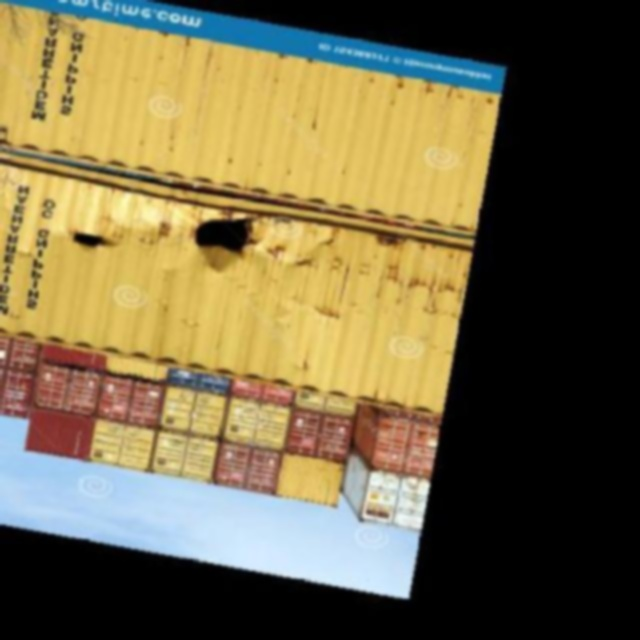Hole: (47, 216, 147, 269), (186, 214, 269, 271)
Rusty: (284, 246, 481, 306)
